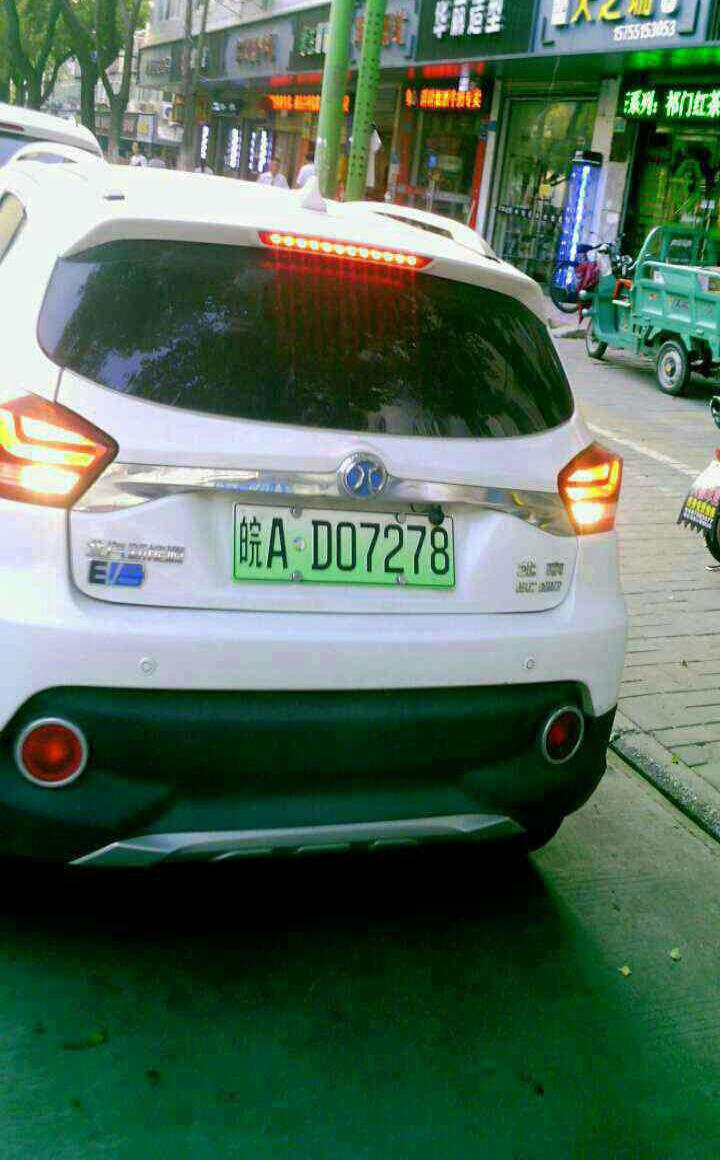car_id: (233, 507, 460, 580)
